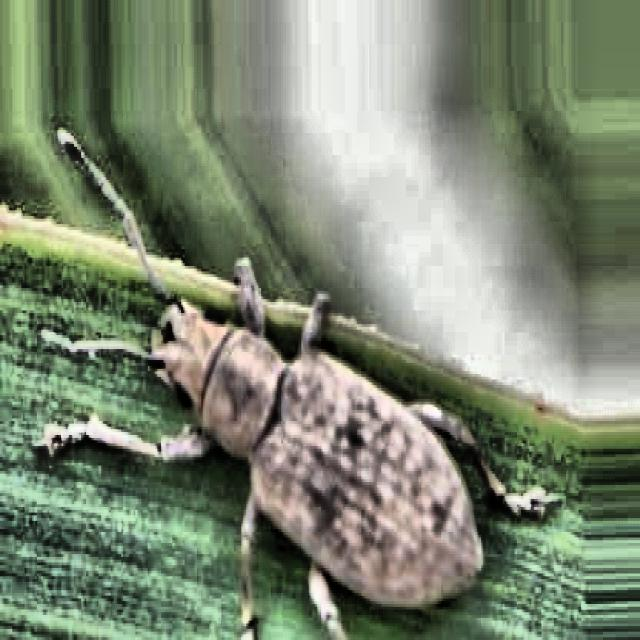Stink bug: (66, 183, 528, 637)
